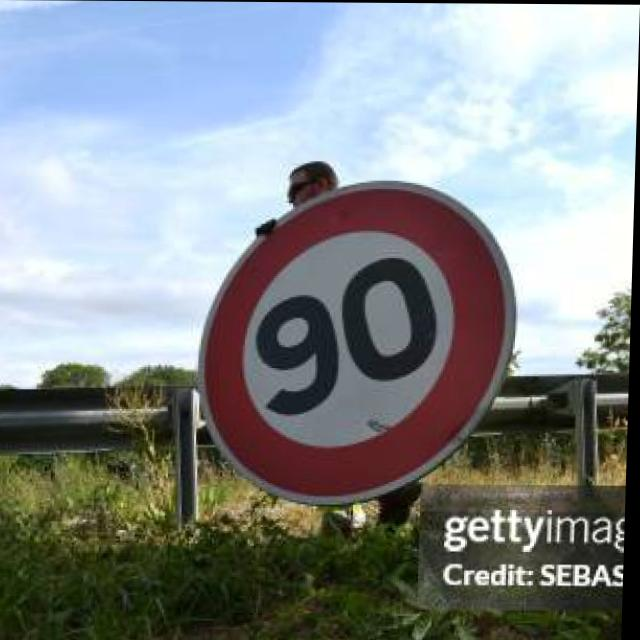Speed Limit -90-: (189, 177, 527, 513)
